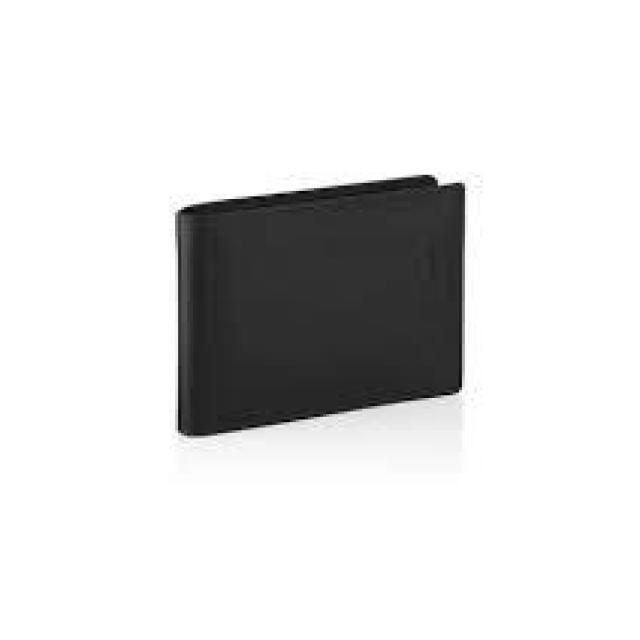cuzdan: (130, 122, 556, 515)
